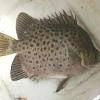Scat Fish: (1, 12, 100, 95)
